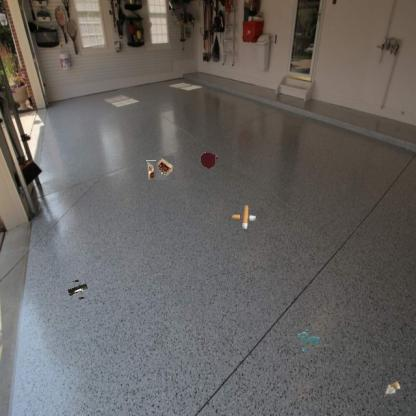dirty: (155, 156, 175, 180), (68, 280, 88, 300), (383, 379, 401, 399), (235, 209, 254, 227), (146, 160, 156, 181)
liquid: (298, 330, 318, 350), (202, 151, 218, 169)
